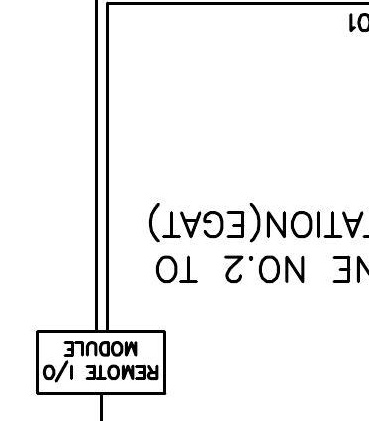remote_io_module: (36, 330, 167, 395)
